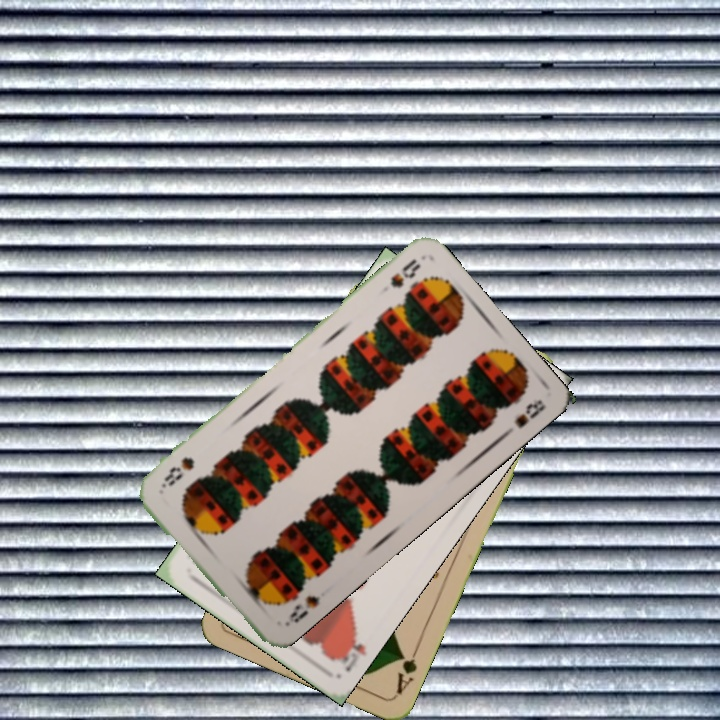GA: (392, 641, 422, 697)
HO: (329, 623, 369, 675)
S8: (280, 591, 323, 629), (386, 254, 424, 291)
